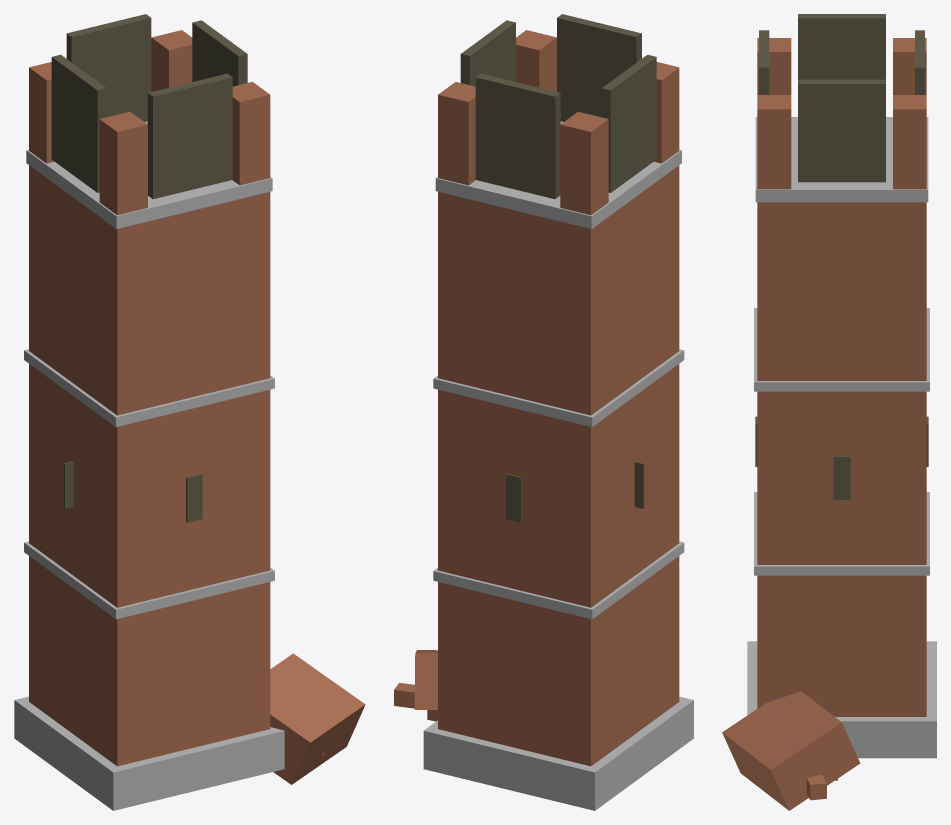
Rendered from SM_Campanario_v3_Danado_LOD1.fbx.
The picture shows the model from 3 angles, left to right: view 1: azimuth 30°, elevation 25°; view 2: azimuth 150°, elevation 25°; view 3: azimuth 270°, elevation 25°; orthographic projection. The views are drawn at different scales.
Visible parts, largest first — view 1: SM_pueblo_valenciano_v23_LOD1; view 2: SM_pueblo_valenciano_v23_LOD1; view 3: SM_pueblo_valenciano_v23_LOD1.
Boxes of the visible parts, x1=… form: SM_pueblo_valenciano_v23_LOD1: x1=14, y1=14, x2=365, y2=810; SM_pueblo_valenciano_v23_LOD1: x1=394, y1=14, x2=693, y2=810; SM_pueblo_valenciano_v23_LOD1: x1=722, y1=14, x2=936, y2=810.
Size of the model in its own units: 8.64 by 22.24 by 6.34.
